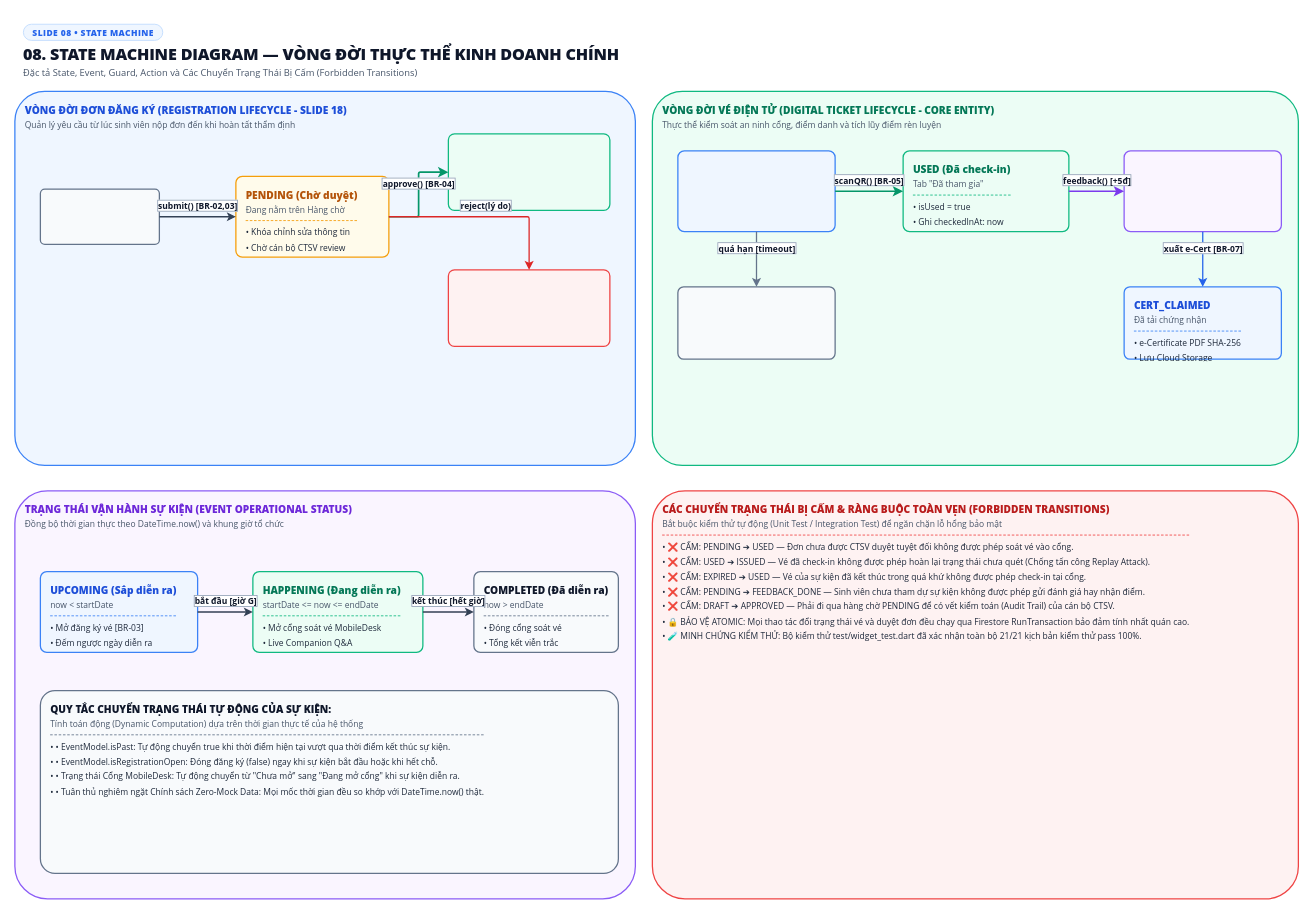
Some shapes in this 1314 by 915 pixel diagram are drawn without their labels. The shapes that lost their labels are listed below. From the top down, each one's centre as x and y in pixels, then its label:
[528,172]: APPROVED (Đã duyệt) Đạt điều kiện tham dự • Kích hoạt tạo Vé điện tử
[756,191]: ISSUED (Đã phát hành) Tab "Sắp diễn ra" • isUsed = false • Mã QR hoạt động
[1202,191]: FEEDBACK_DONE Hoàn thành đánh giá • activityPoints += 5 • Mở khóa tải e-Cert
[99,216]: [*] Khởi tạo Sinh viên chọn sự kiện
[528,308]: REJECTED (Từ chối) Không đạt tiêu chí • Lưu lý do từ chối cụ thể
[756,322]: EXPIRED (Quá hạn) Không đến dự sự kiện • Sự kiện đã kết thúc • Khóa quét QR
